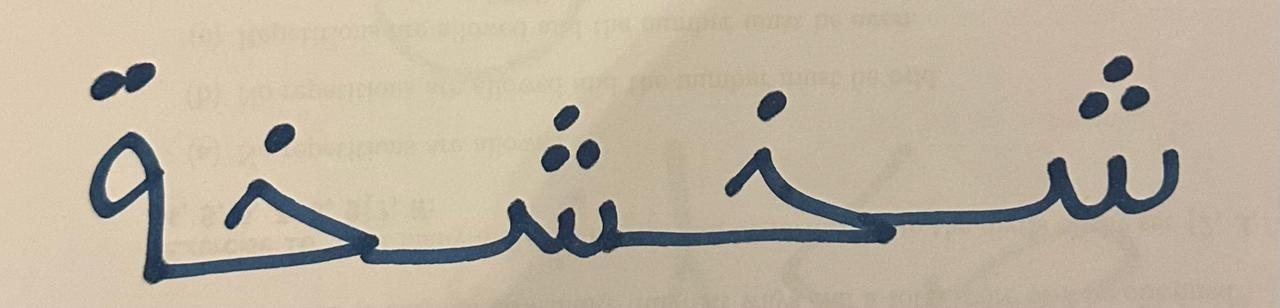lam: (648, 4, 918, 289), (198, 55, 399, 295)
tah: (925, 12, 1209, 273), (403, 20, 643, 296)
thal: (56, 32, 194, 299)
